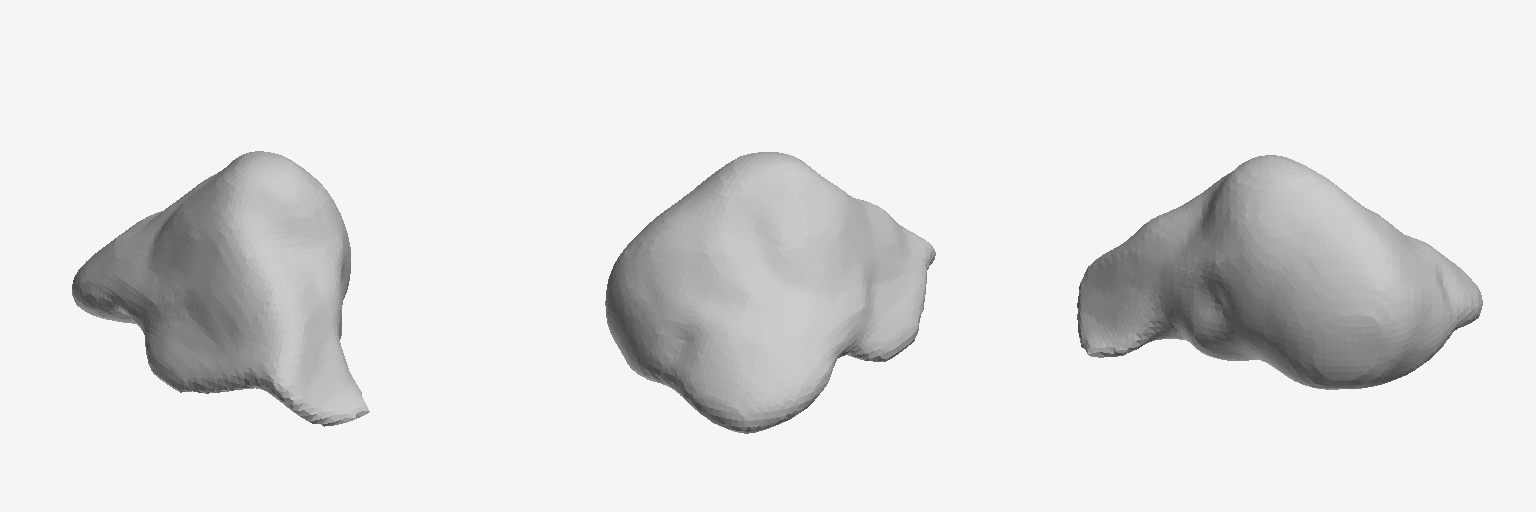
The model's file is parenchyma_scaled.obj.
3 renders of one model, left to right at view 1: azimuth 30°, elevation 25°; view 2: azimuth 150°, elevation 25°; view 3: azimuth 270°, elevation 25°, orthographic.
Visible parts, largest first — view 1: parenchyma_10000_smooth; view 2: parenchyma_10000_smooth; view 3: parenchyma_10000_smooth.
Boxes of the visible parts, x1=… form: parenchyma_10000_smooth: x1=72, y1=151, x2=369, y2=426; parenchyma_10000_smooth: x1=605, y1=152, x2=935, y2=433; parenchyma_10000_smooth: x1=1077, y1=155, x2=1482, y2=389.
Size of the model in its own units: 0.1063 by 0.0845 by 0.163.